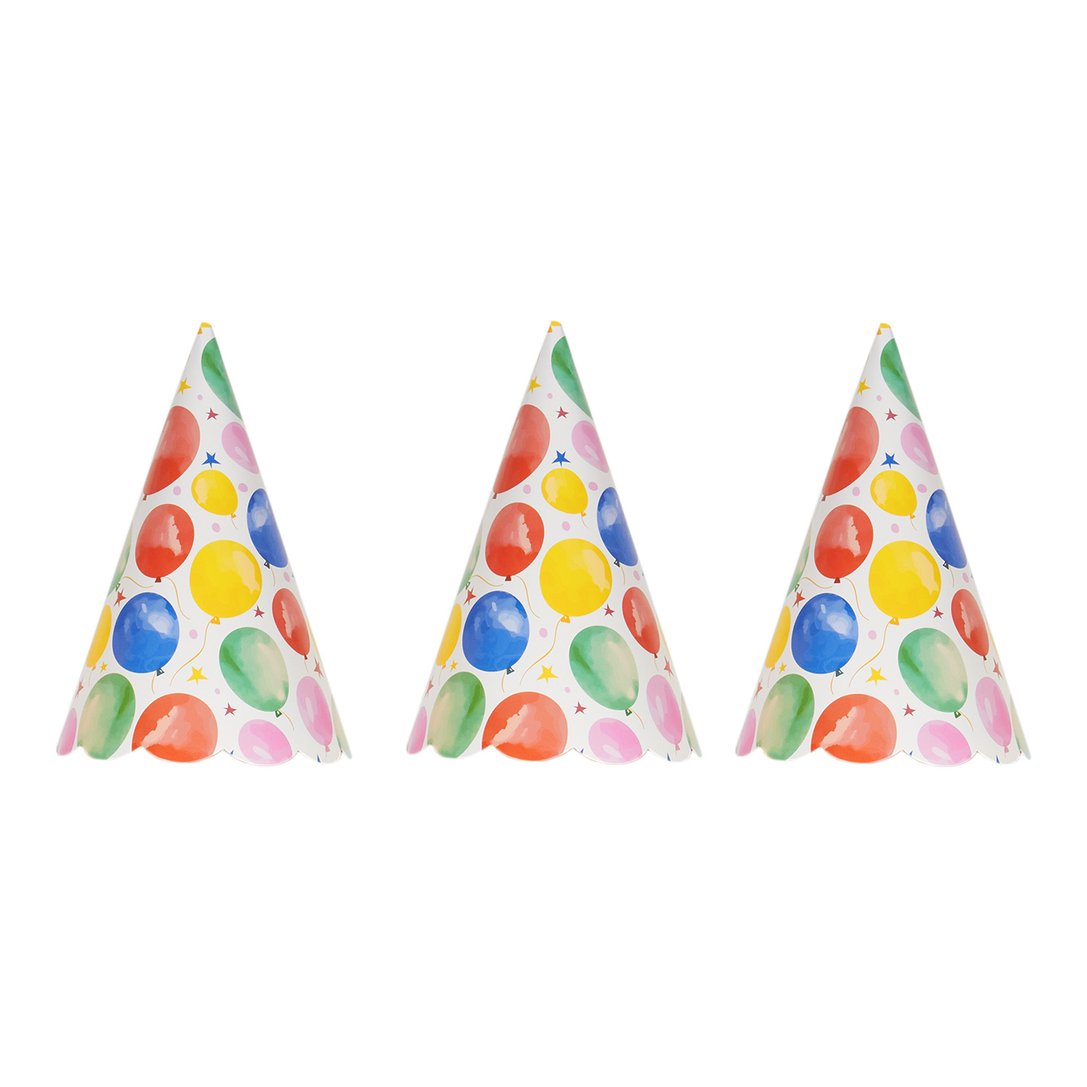cone: (55, 322, 353, 767), (405, 320, 703, 765), (734, 322, 1032, 767)
